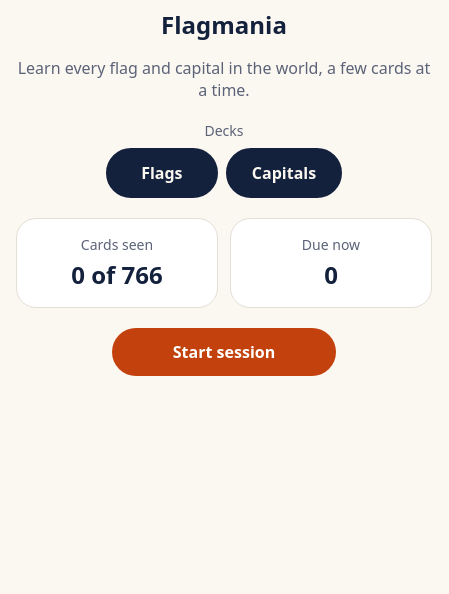
swiping › answers when released past the threshold, even if the last move had not rendered
Click the button "Start session" at coordinates (224, 352), box [112,328,336,376]
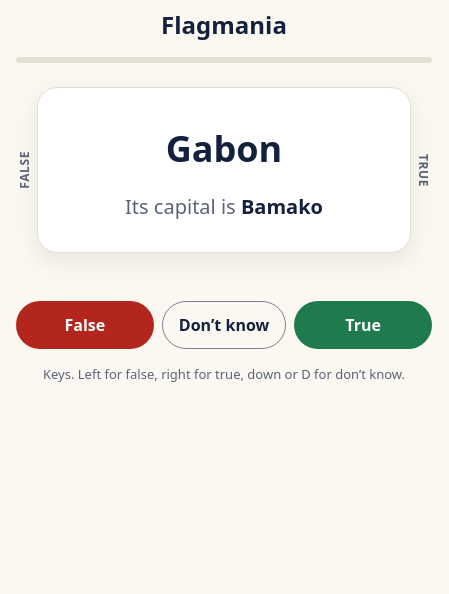
Expected: the button "True" is shown, [294,301,432,349]
Press the mouse on the element with class "swipe-card" at coordinates (224, 170), box [37,87,411,253]
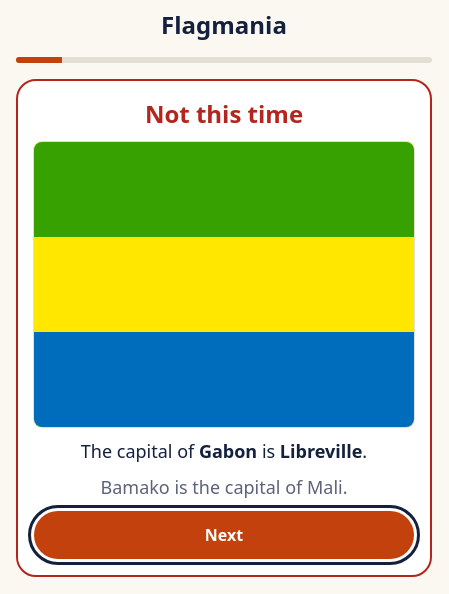
Expected: the button "Next" is shown, [34,511,414,559]
